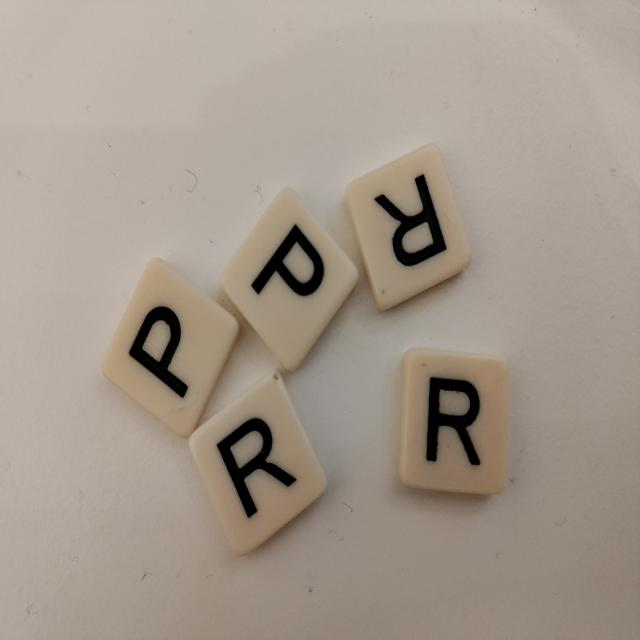p: (215, 183, 364, 378), (98, 255, 245, 442)
r: (186, 369, 332, 560), (343, 141, 474, 316), (398, 348, 511, 498)
